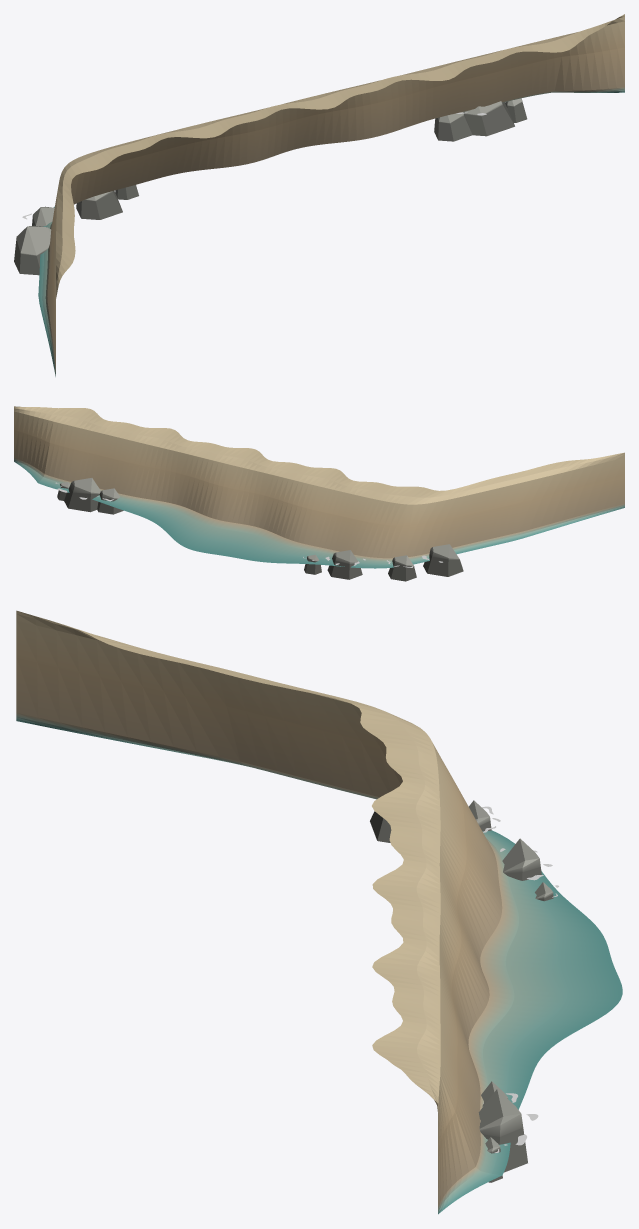
Rendered from CoveNarrow.fbx.
3 renders of one model, top to bottom at view 1: azimuth 30°, elevation 25°; view 2: azimuth 150°, elevation 25°; view 3: azimuth 270°, elevation 25°, orthographic. The views are drawn at different scales.
Visible parts, largest first — view 1: SandShelf, Reef0, Reef5, Reef2, Reef4; view 2: SandShelf, Reef0, Reef5, Reef2, Reef1, Reef4; view 3: SandShelf, Reef5, Reef2.
Boxes of the visible parts, x1,y1,x2,y2 form: SandShelf: (38,14,624,376); Reef0: (14,225,51,275); Reef5: (464,101,514,136); Reef2: (76,190,122,219); Reef4: (434,112,472,141); SandShelf: (14,406,624,568); Reef0: (423,544,463,576); Reef5: (64,478,100,512); Reef2: (327,550,362,579); Reef1: (388,555,416,581); Reef4: (97,488,123,514); SandShelf: (16,610,622,1214); Reef5: (478,1089,527,1172); Reef2: (502,838,541,880).
Bounding box in the file's own units: 126 × 16 × 65.58.
